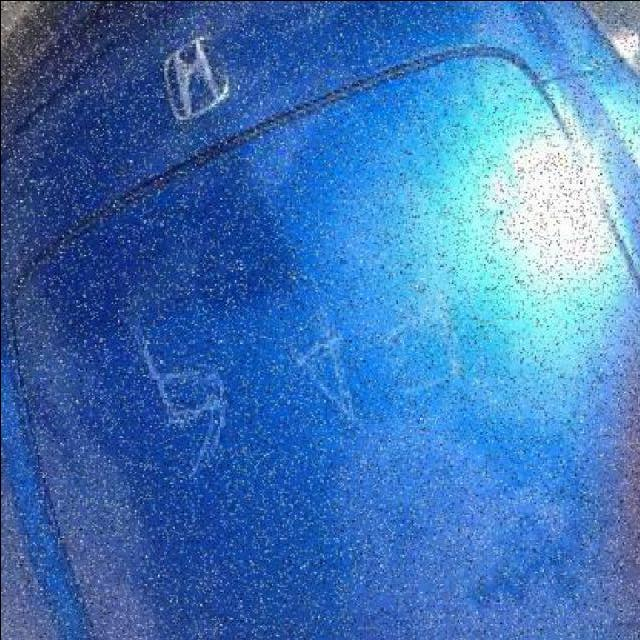bonnet-dent: (2, 3, 640, 515)
